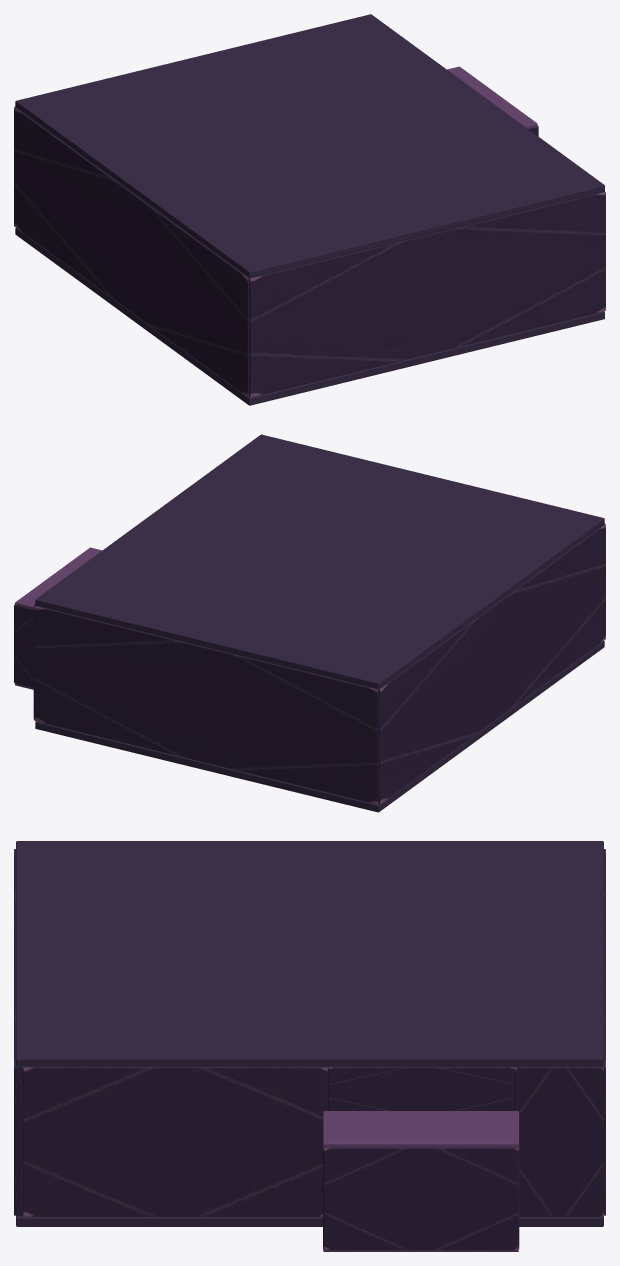
Rendered from shell.glb.
3 renders of one model, top to bottom at view 1: azimuth 30°, elevation 25°; view 2: azimuth 150°, elevation 25°; view 3: azimuth 270°, elevation 25°, orthographic. The views are drawn at different scales.
Visible parts, largest first — view 1: ceiling_deck, end_wall, door_glass, end_pilaster; view 2: ceiling_deck, end_wall, door_glass, end_pilaster; view 3: ceiling_deck, end_wall, end_pilaster, door_glass.
Boxes of the visible parts, left/top/right/bottom form: ceiling_deck: left=15, top=14, right=604, bottom=277; end_wall: left=14, top=106, right=605, bottom=397; door_glass: left=15, top=228, right=604, bottom=405; end_pilaster: left=447, top=66, right=537, bottom=128; ceiling_deck: left=35, top=434, right=604, bottom=688; end_wall: left=14, top=523, right=605, bottom=804; door_glass: left=35, top=641, right=604, bottom=812; end_pilaster: left=15, top=547, right=102, bottom=609; ceiling_deck: left=16, top=841, right=603, bottom=1066; end_wall: left=14, top=849, right=605, bottom=1249; end_pilaster: left=323, top=1111, right=518, bottom=1147; door_glass: left=16, top=1215, right=603, bottom=1226.
Size of the model in its own units: 16.72 by 5.18 by 16.52.
11 materials, 1 textured.
